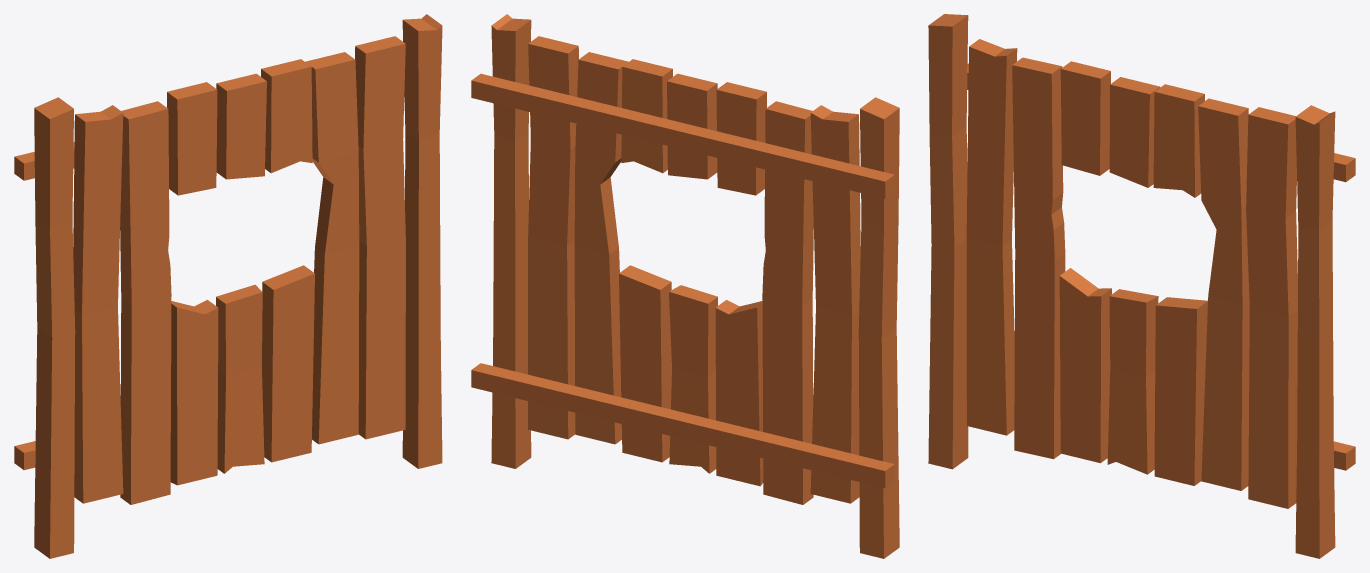
Rendered from Wood Window 2.glb.
3 renders of one model, left to right at view 1: azimuth 30°, elevation 25°; view 2: azimuth 150°, elevation 25°; view 3: azimuth 330°, elevation 25°, orthographic.
Parts seen in each view (by area): view 1: WoodFence_Window2; view 2: WoodFence_Window2; view 3: WoodFence_Window2.
Boxes of the visible parts, box(x1,y1,x2,y2) form: WoodFence_Window2: box(14, 14, 442, 558); WoodFence_Window2: box(471, 14, 899, 558); WoodFence_Window2: box(928, 14, 1355, 558).
Bounding box in the file's own units: 2 × 2.05 × 0.2086.
